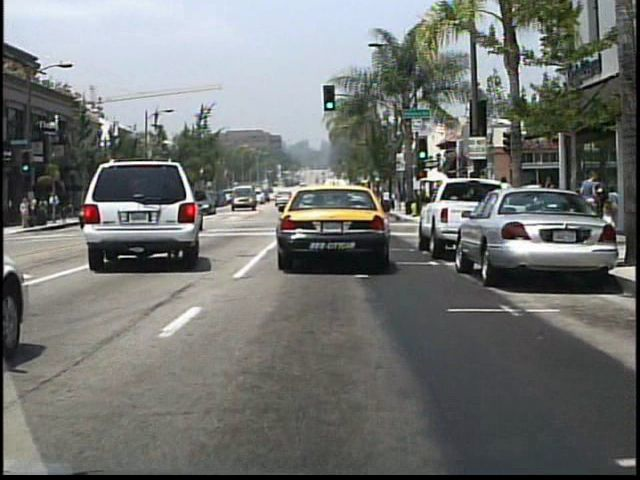person: (541, 175, 563, 236), (580, 171, 600, 233), (20, 195, 33, 231), (49, 190, 61, 222)
